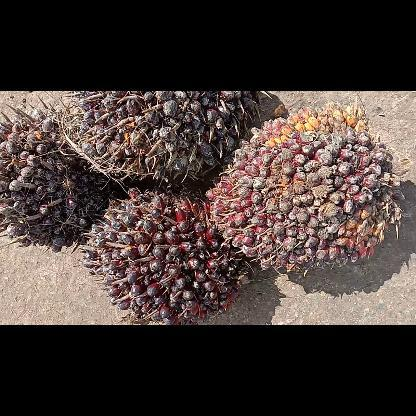Kurang masak: (203, 103, 415, 283), (77, 186, 252, 324), (64, 92, 268, 180), (0, 102, 113, 254)
